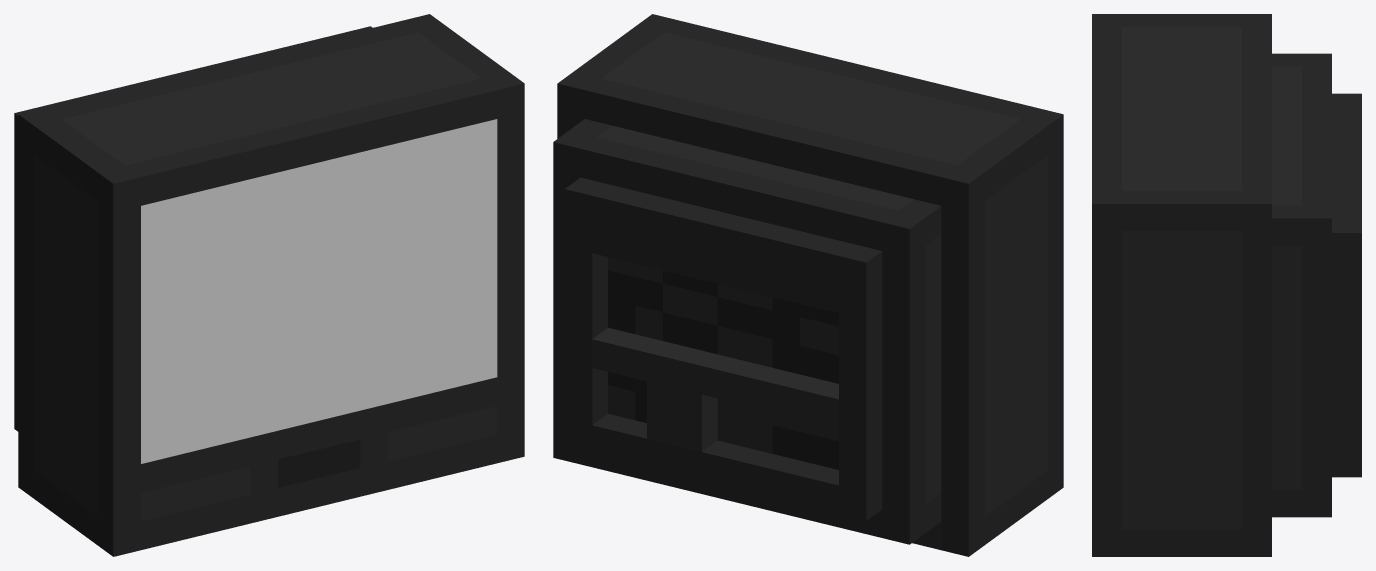
The model's file is Decor-6.obj.
3 views of the same model, side by side, from view 1: azimuth 30°, elevation 25°; view 2: azimuth 150°, elevation 25°; view 3: azimuth 270°, elevation 25° (orthographic). The views are drawn at different scales.
Size of the model in its own units: 1.5 by 1.3 by 0.9.
Materials: 1 (1 with a texture image).
